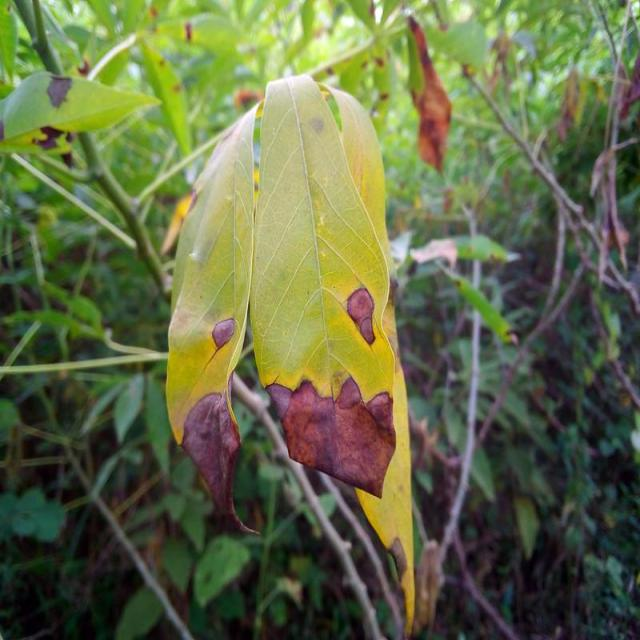cassava leaf: (247, 71, 415, 634), (164, 97, 261, 534)
